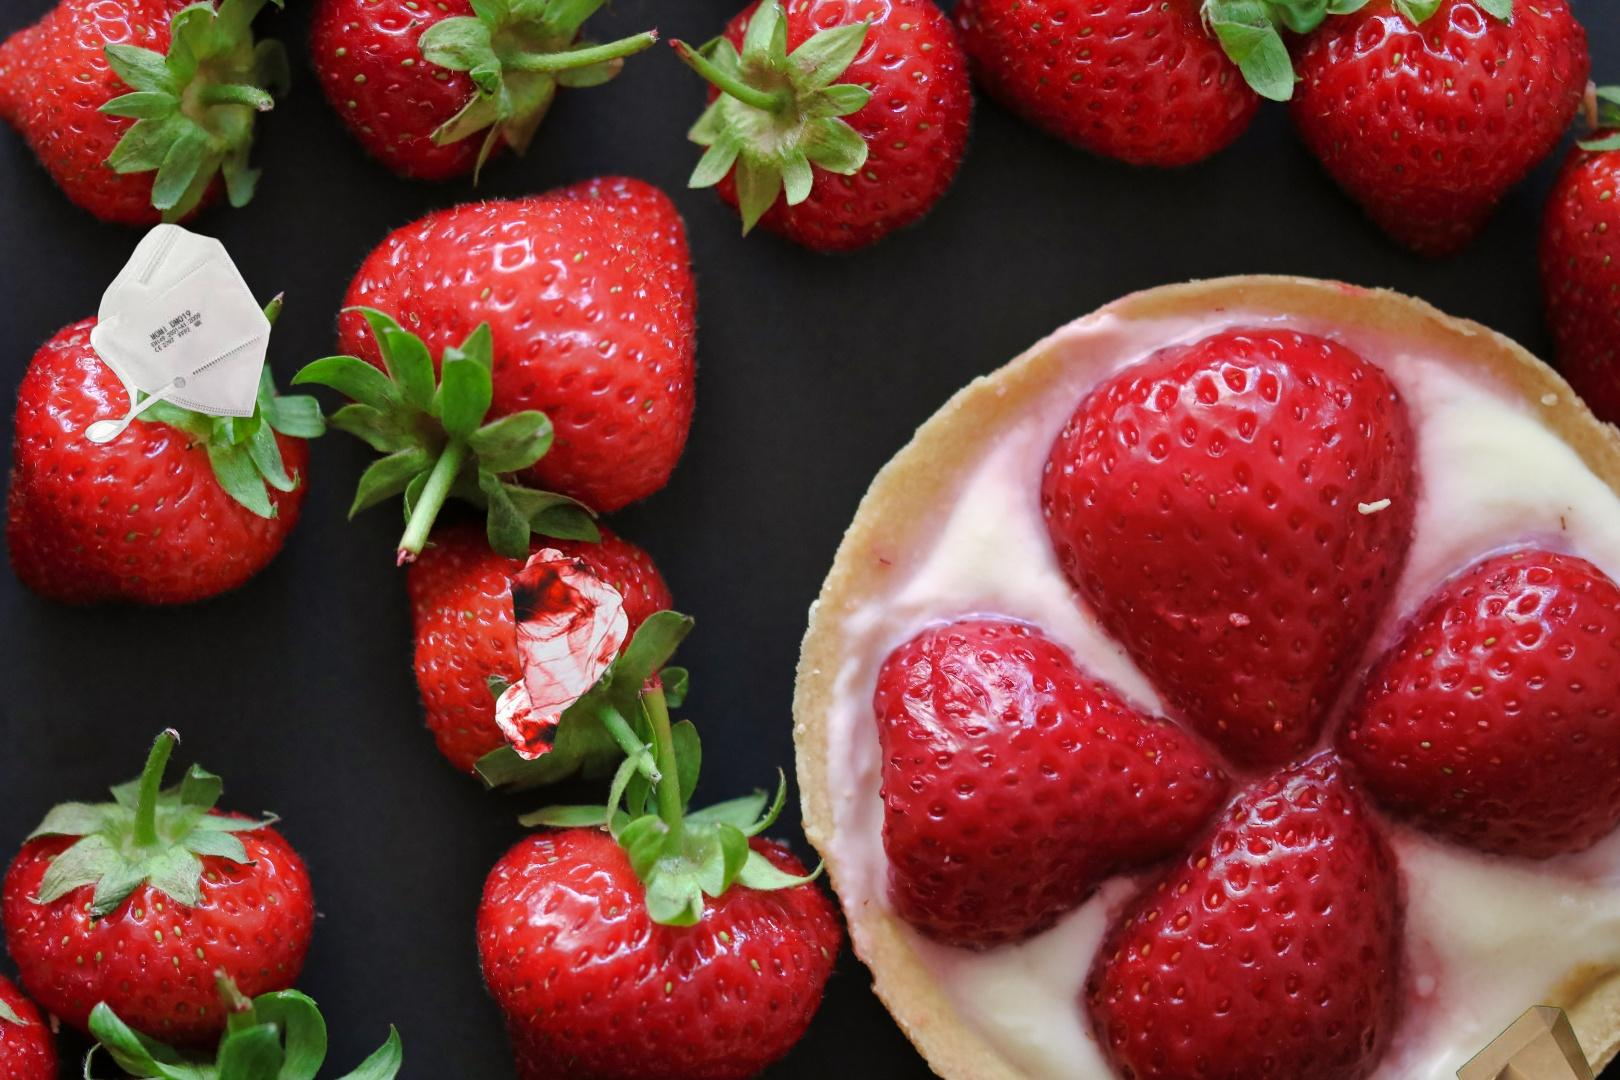paper-bag: (1403, 1004, 1620, 1080)
plastic-bag: (441, 541, 683, 764)
trash: (82, 219, 274, 446)
